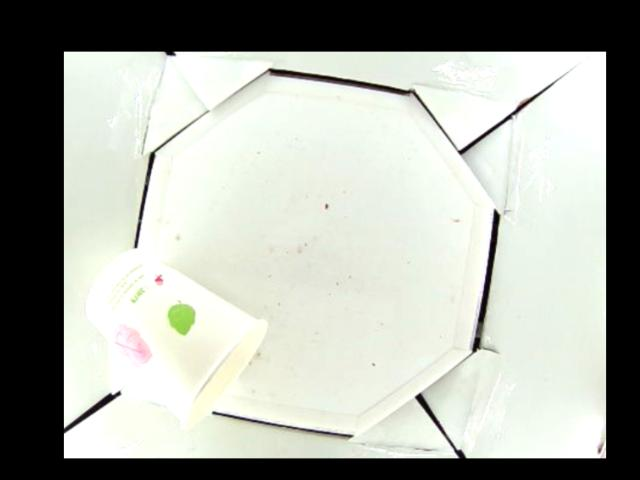Cup: (82, 246, 268, 428)
